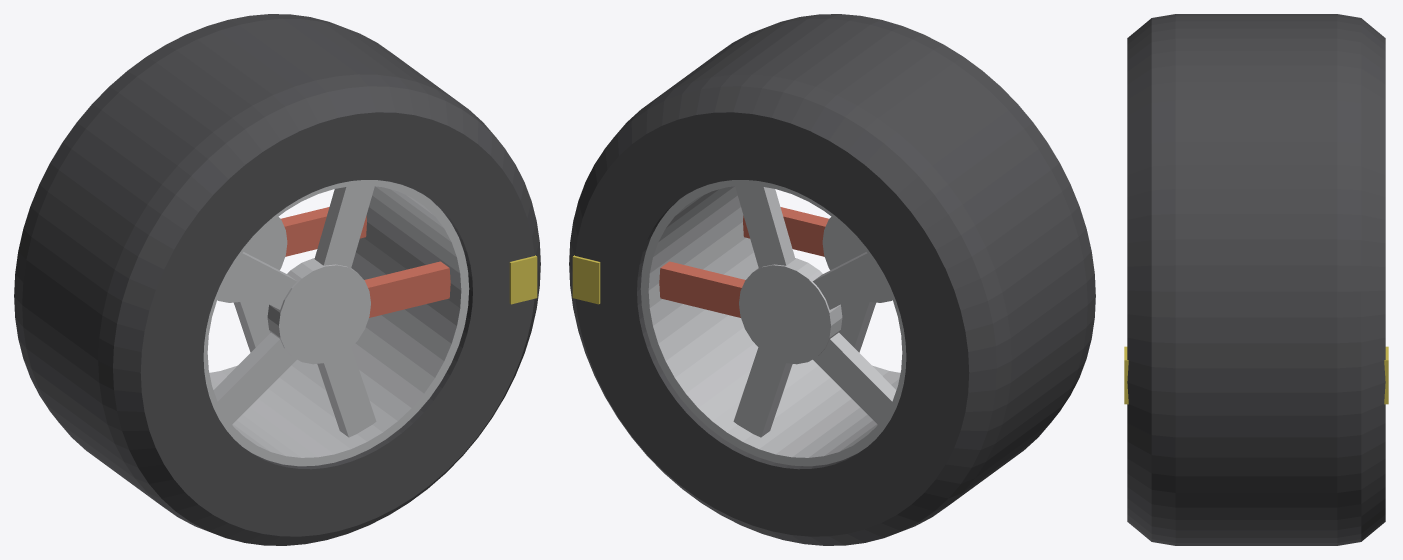
The model's file is racecar_wheel.glb.
The picture shows the model from 3 angles, left to right: view 1: azimuth 30°, elevation 25°; view 2: azimuth 150°, elevation 25°; view 3: azimuth 270°, elevation 25°; orthographic projection. The views are drawn at different scales.
Visible parts, largest first — view 1: part0, part1, part8, part12, part9, part10, part13, part11, part2, part3, part7, part15; view 2: part0, part1, part2, part6, part3, part4, part7, part5, part8, part9, part13, part14; view 3: part0.
Part boxes in pixels (x1,y1,x2,y2): part0: (14, 14, 540, 545); part1: (203, 180, 469, 466); part8: (267, 258, 370, 364); part12: (213, 332, 296, 424); part9: (364, 261, 450, 317); part10: (314, 185, 374, 268); part13: (317, 347, 376, 437); part11: (225, 252, 296, 309); part2: (217, 217, 287, 302); part3: (281, 207, 366, 256); part7: (234, 297, 270, 352); part15: (509, 255, 537, 304); part0: (569, 14, 1095, 545); part1: (640, 180, 906, 466); part2: (739, 258, 842, 364); part6: (813, 332, 896, 424); part3: (659, 261, 745, 317); part4: (735, 185, 795, 268); part7: (733, 347, 792, 437); part5: (813, 252, 884, 309); part8: (822, 217, 892, 302); part9: (743, 207, 828, 256); part13: (839, 297, 875, 352); part14: (572, 255, 600, 304); part0: (1127, 14, 1385, 545).
Size of the model in its own units: 0.66 by 0.66 by 0.328.
